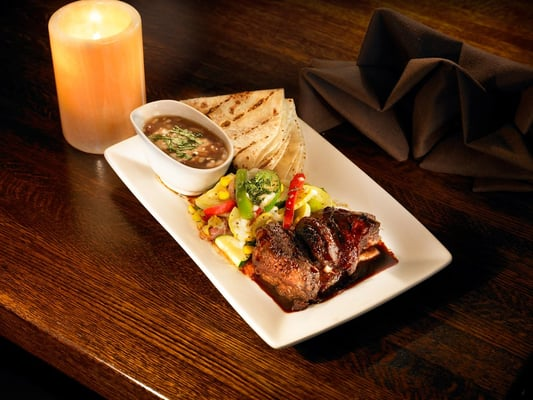curry: (233, 168, 288, 220)
pizza: (49, 0, 147, 156), (128, 99, 235, 197)
soup: (188, 89, 308, 190)
sushi: (130, 99, 235, 197)
